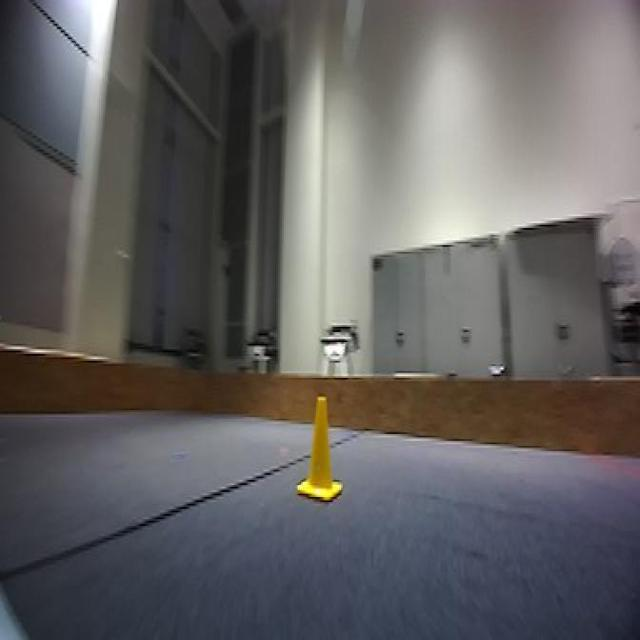frc_cone: (297, 395, 346, 509)
